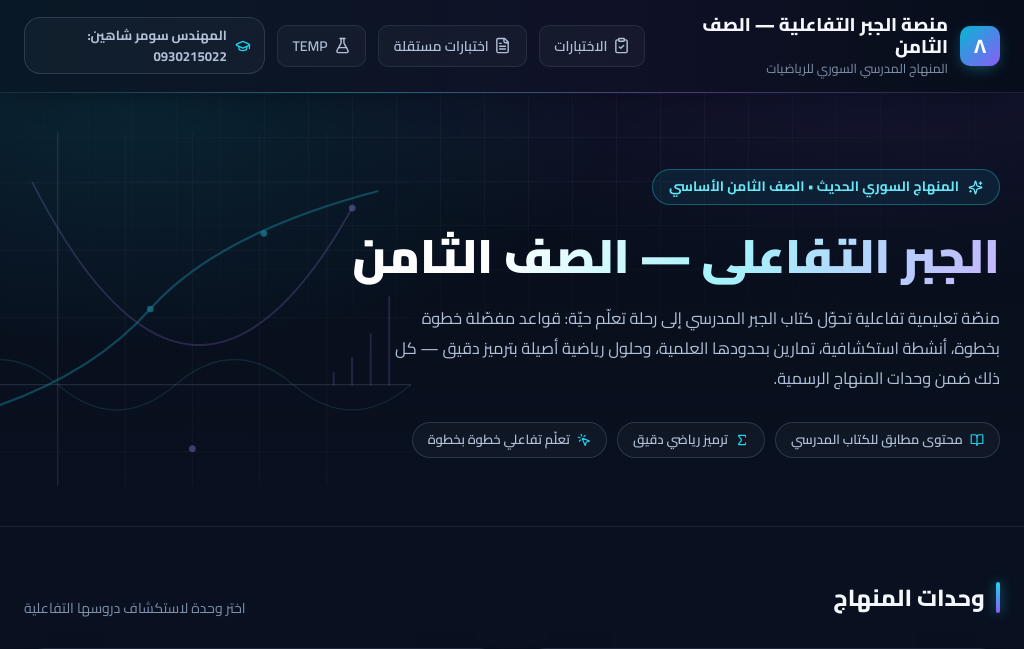
Test: TEMP tab — Grade 6 book (temporary addition) › 2. TEMP landing shows exactly one entry: the Grade 6 book
The width and height of the screenshot is (1024, 649).
Click the button with aria-label "فتح تبويب TEMP المؤقت" at {"x": 322, "y": 46}, box [277,25,366,67]
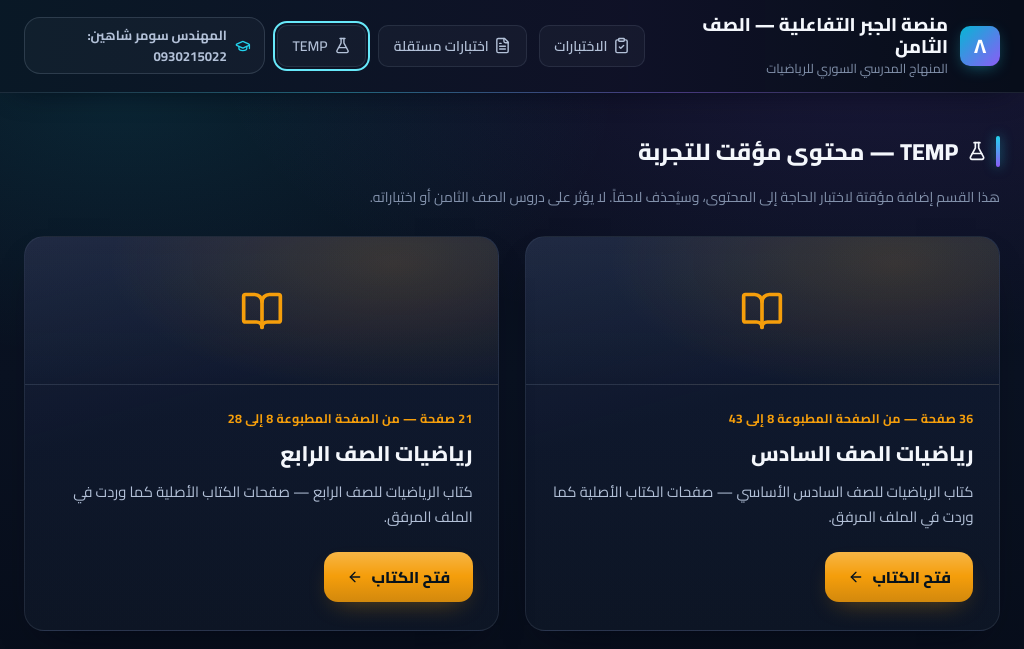
Now the heading "TEMP — محتوى مؤقت للتجربة" is shown, box [638,133,1000,170]
Now the heading "رياضيات الصف السادس" is shown, box [751,433,973,473]
Now the text "36 صفحة — من الصفحة المطبوعة 8 إلى 43" is shown, box [729,408,973,430]
